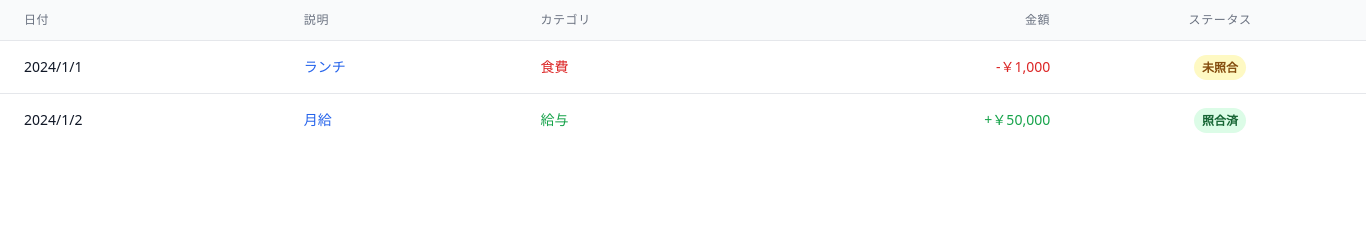
TransactionList › カテゴリ更新エラーを表示する
This screenshot has width=1366, height=231.
Note: カテゴリをクリックして編集モードに
Click the button "食費" at (554, 67), box [540, 57, 568, 77]
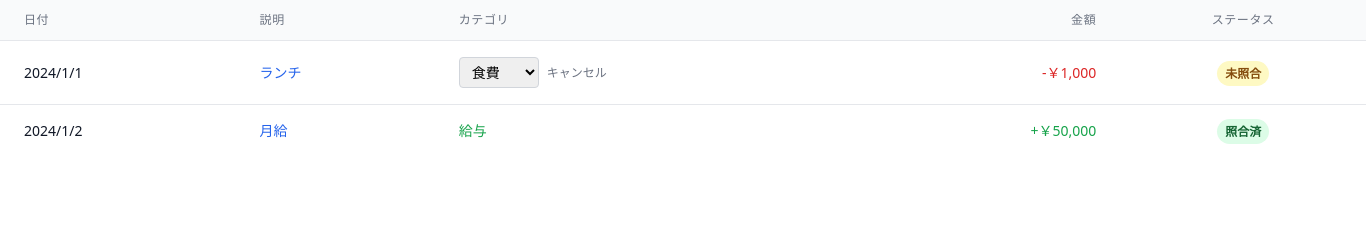
Expected: the dropdown is shown
Note:  カテゴリを変更
Select "交通費" in the dropdown at (499, 72), box [459, 57, 539, 88]
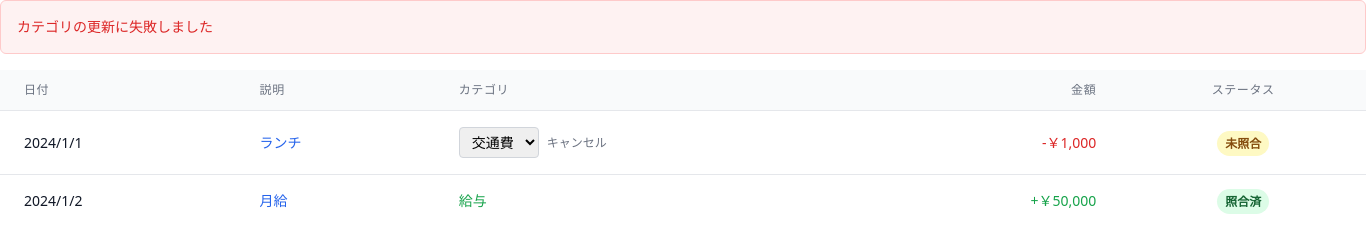
Expected: the text "カテゴリの更新に失敗しました" is shown, [17, 17, 213, 36]
